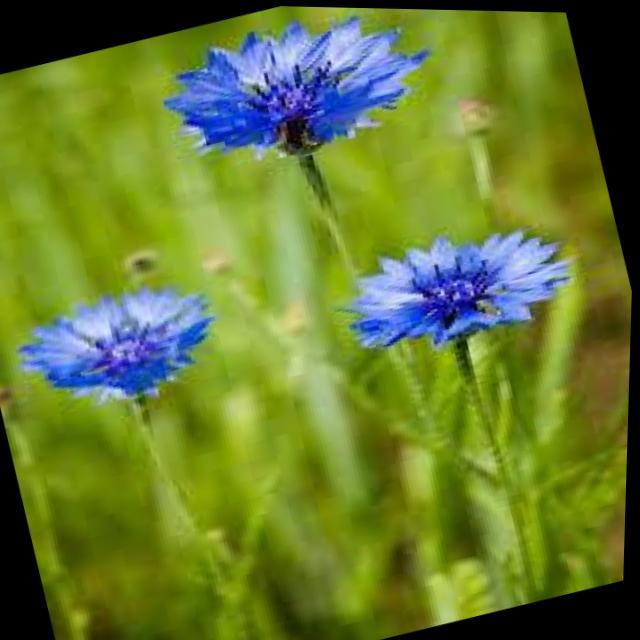Flower: (323, 196, 588, 373), (170, 3, 426, 177), (13, 274, 223, 413)
